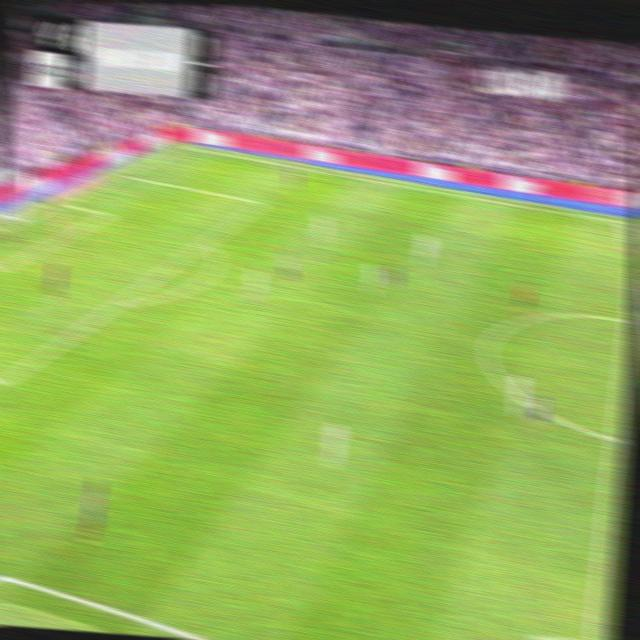bigarea_bottom_inner: (0, 368, 14, 394)
bigarea_top_inner: (254, 196, 267, 209)
bigarea_top_outter: (116, 166, 131, 179)
bottom_arc_area_intersection: (111, 292, 131, 312)
corner: (175, 138, 192, 151)
halfcircle_bottom: (605, 422, 627, 454)
halfcircle_top: (619, 308, 637, 332)
smallarea_top_inner: (101, 207, 114, 220)
top_arc_area_intersection: (199, 233, 214, 249)
